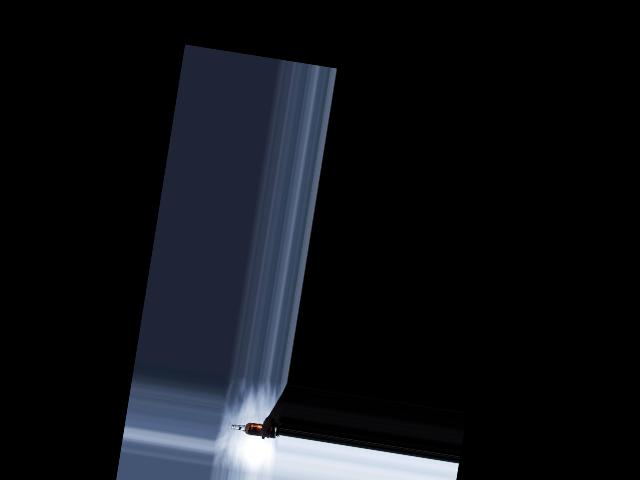beer: (230, 419, 276, 437)
